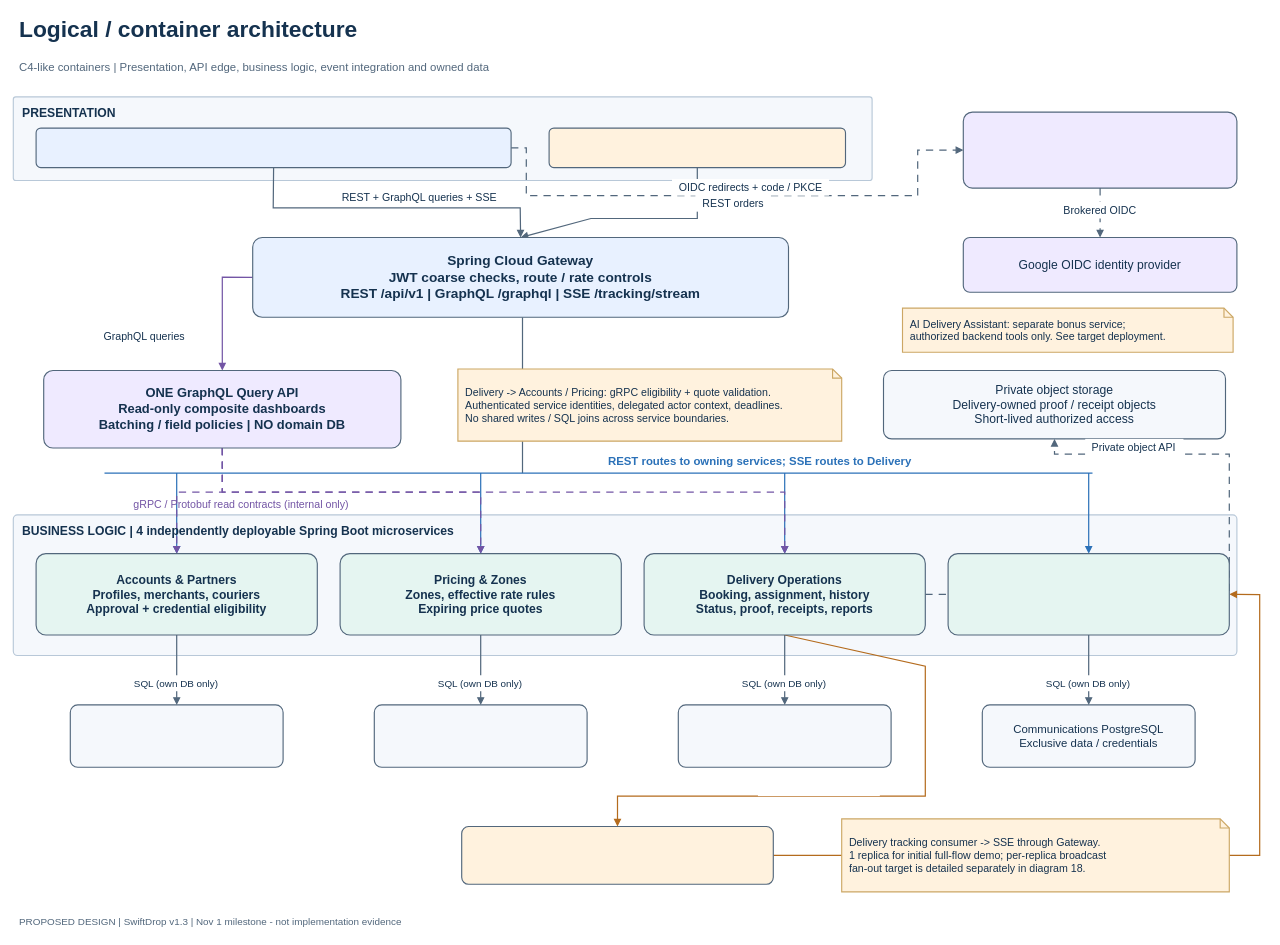
This 1280x945 diagram has some shape labels left out. Here are the shapes that lost their labels. From the top down, the centre of each, then its label:
the point at 273,147: React + TypeScript + Vite SPA | static NGINX
the point at 697,147: Merchant platform | scoped API key
the point at 1099,149: Keycloak Local login + Google OIDC broker Authorization Code + PKCE
the point at 1088,594: Communications Notification + webhook consumers Delivery jobs, retries, receipts
the point at 176,735: Accounts PostgreSQL Exclusive data / credentials
the point at 480,735: Pricing PostgreSQL Exclusive data / credentials
the point at 784,735: Delivery PostgreSQL Exclusive data / credentials
the point at 818,787: Outbox relay publishes
the point at 617,855: Kafka KRaft | parcel.lifecycle.v1 ParcelStatusChanged; key = parcelId
